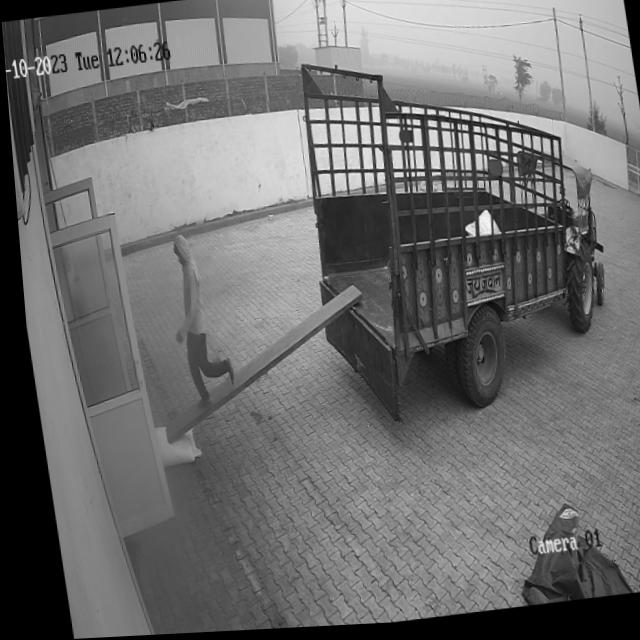sack: (147, 423, 194, 467)
